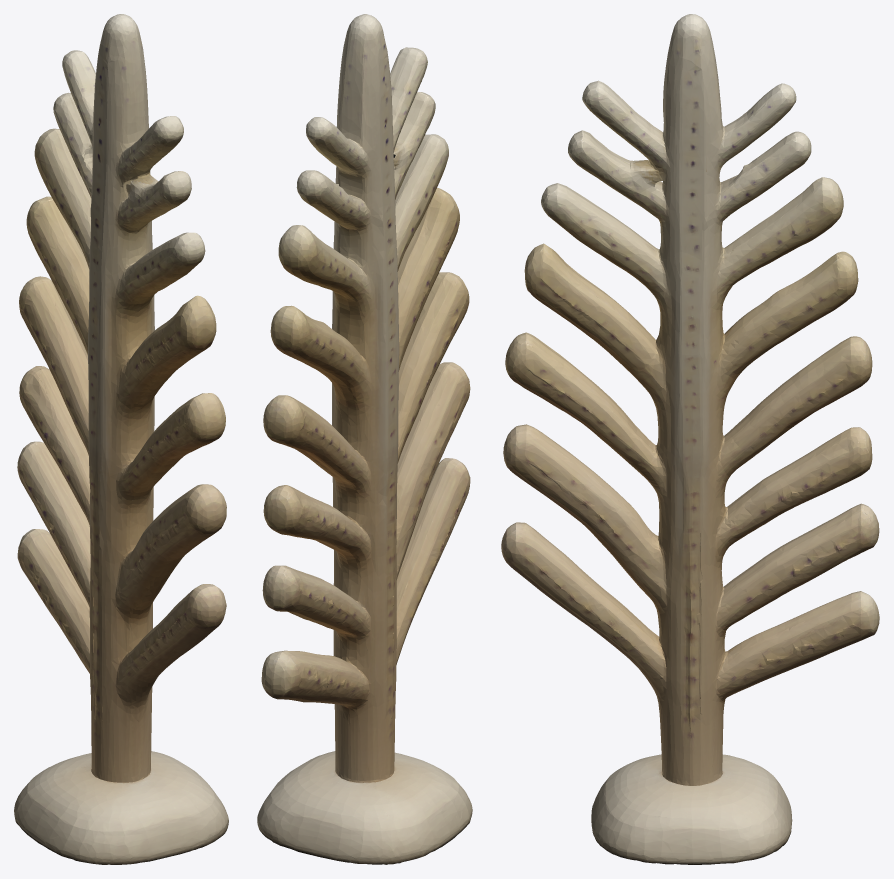
3 renders of one model, left to right at view 1: azimuth 30°, elevation 25°; view 2: azimuth 150°, elevation 25°; view 3: azimuth 270°, elevation 25°, orthographic.
Visible parts, largest first — view 1: world; view 2: world; view 3: world.
Boxes of the visible parts, left/top/right/bottom form: world: left=14, top=14, right=228, bottom=864; world: left=257, top=14, right=472, bottom=864; world: left=501, top=14, right=879, bottom=864.
Size of the model in its own units: 0.2249 by 1 by 0.4244.
Materials: 1 (1 with a texture image).
